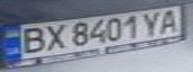0: (103, 16, 127, 43)
1: (121, 12, 142, 39)
4: (87, 17, 109, 44)
8: (66, 19, 90, 47)
A: (154, 7, 184, 35)
B: (12, 25, 51, 55)
X: (39, 21, 69, 52)
Y: (139, 8, 166, 36)
